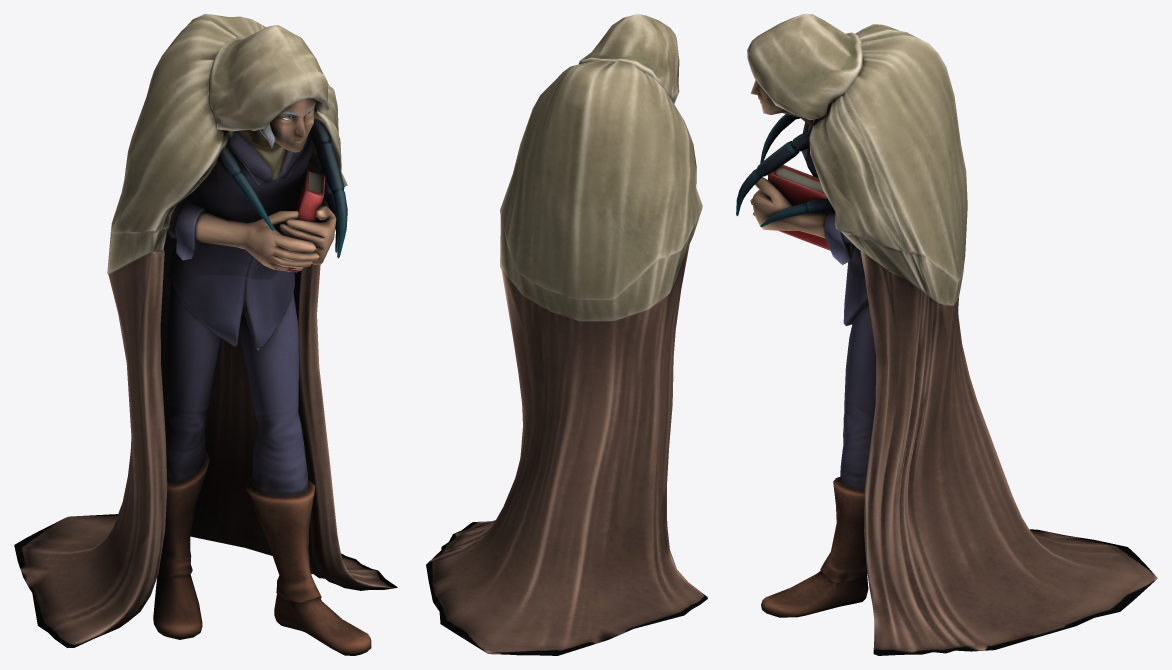
File: MZ4250 - Shon and Gray.glb
3 renders of one model, left to right at view 1: azimuth 30°, elevation 25°; view 2: azimuth 150°, elevation 25°; view 3: azimuth 270°, elevation 25°, orthographic. The views are drawn at different scales.
Visible parts, largest first — view 1: body_high.002, hood_low.001, leg_low.001, book_low.001; view 2: body_high.002, hood_low.001; view 3: body_high.002, hood_low.001, leg_low.001, book_low.001.
Boxes of the visible parts, x1,y1,x2,y2 form: body_high.002: (14,14,397,655); hood_low.001: (208,25,328,131); leg_low.001: (217,119,347,258); book_low.001: (284,167,325,272); body_high.002: (426,60,707,655); hood_low.001: (579,14,679,103); body_high.002: (750,24,1157,655); hood_low.001: (747,14,862,120); leg_low.001: (736,114,834,226); book_low.001: (767,165,834,250).
Size of the model in its own units: 2.99 by 5.79 by 3.87.
Materials: 1 (1 with a texture image).
